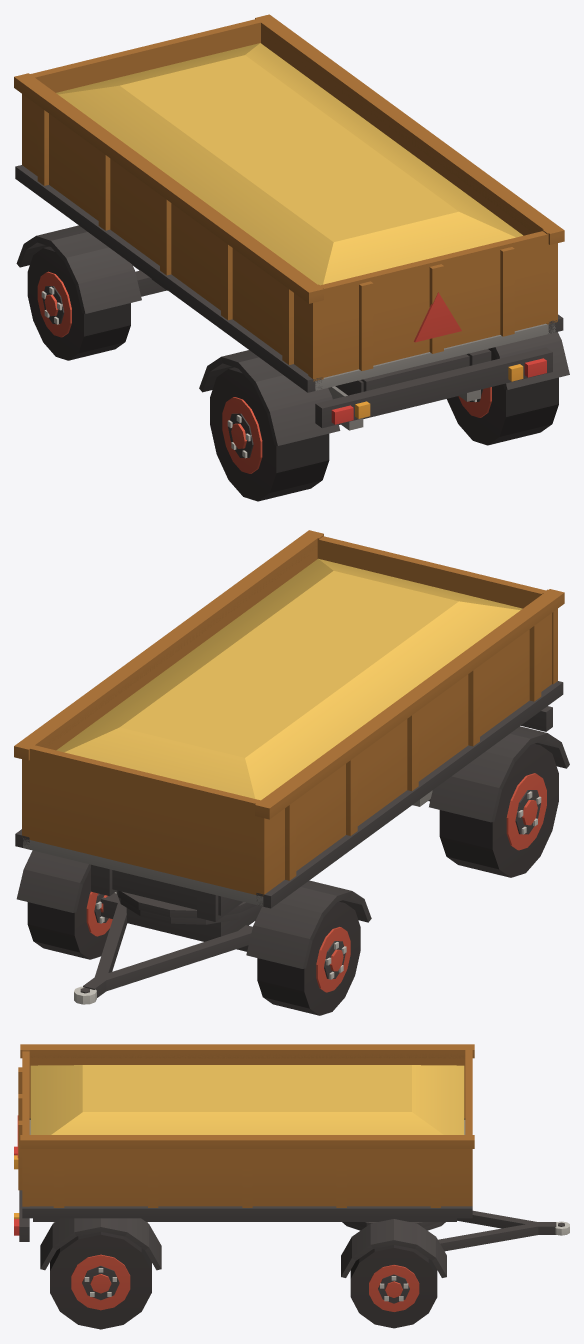
File: trailer_basic.glb
The picture shows the model from 3 angles, top to bottom: view 1: azimuth 30°, elevation 25°; view 2: azimuth 150°, elevation 25°; view 3: azimuth 270°, elevation 25°; orthographic projection. The views are drawn at different scales.
Visible parts, largest first — view 1: tipper, grain_fill, tailgate, trailer_basic, spin_rear_L, spin_front_L, carriage, spin_rear_R; view 2: tipper, grain_fill, carriage, trailer_basic, spin_rear_L, spin_front_L, tailgate, spin_front_R; view 3: tipper, grain_fill, spin_rear_R, spin_front_R, carriage, trailer_basic, tailgate.
Part boxes in pixels (x1,y1,x2,y2): tipper: (14,14,564,392); grain_fill: (56,43,522,285); tailgate: (320,231,547,377); trailer_basic: (199,332,569,445); spin_rear_L: (210,367,329,501); spin_front_L: (27,246,130,360); carriage: (16,225,167,313); spin_rear_R: (447,348,558,445); tipper: (14,530,564,908); grain_fill: (56,558,522,800); carriage: (16,850,371,1004); trailer_basic: (91,706,569,921); spin_rear_L: (439,743,558,877); spin_front_L: (257,901,360,1015); tailgate: (319,536,545,608); spin_front_R: (27,868,116,959); tipper: (20,1044,474,1218); grain_fill: (30,1065,464,1134); spin_rear_R: (50,1231,151,1329); spin_front_R: (350,1245,437,1328); carriage: (341,1210,569,1277); trailer_basic: (14,1146,456,1270); tailgate: (17,1051,29,1190).
Bounding box in the file's own units: 2.49 × 1.98 × 5.31.
Materials: 2 (2 with a texture image).
